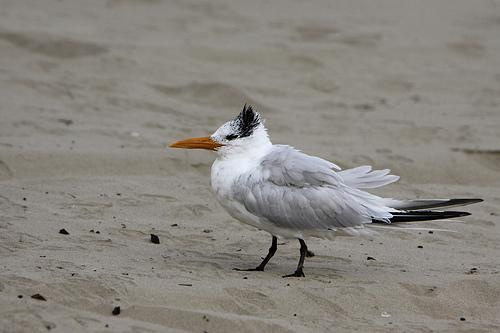bird: (167, 102, 486, 278)
